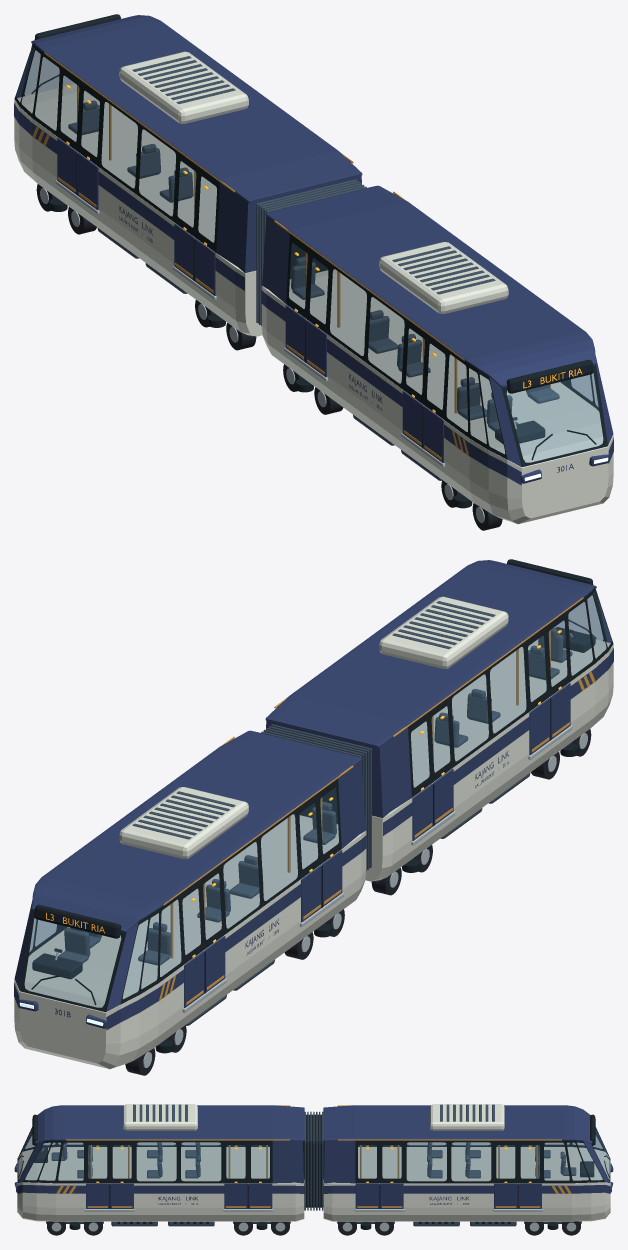
3 renders of one model, top to bottom at view 1: azimuth 30°, elevation 25°; view 2: azimuth 150°, elevation 25°; view 3: azimuth 270°, elevation 25°, orthographic. The views are drawn at different scales.
Parts seen in each view (by area): view 1: Kajang Link LRT Set; view 2: Kajang Link LRT Set; view 3: Kajang Link LRT Set.
Boxes of the visible parts, left/top/right/bottom form: Kajang Link LRT Set: left=14, top=14, right=613, bottom=530; Kajang Link LRT Set: left=14, top=559, right=613, bottom=1075; Kajang Link LRT Set: left=14, top=1104, right=613, bottom=1235.
Bounding box in the file's own units: 2.64 × 3.55 × 17.88.
